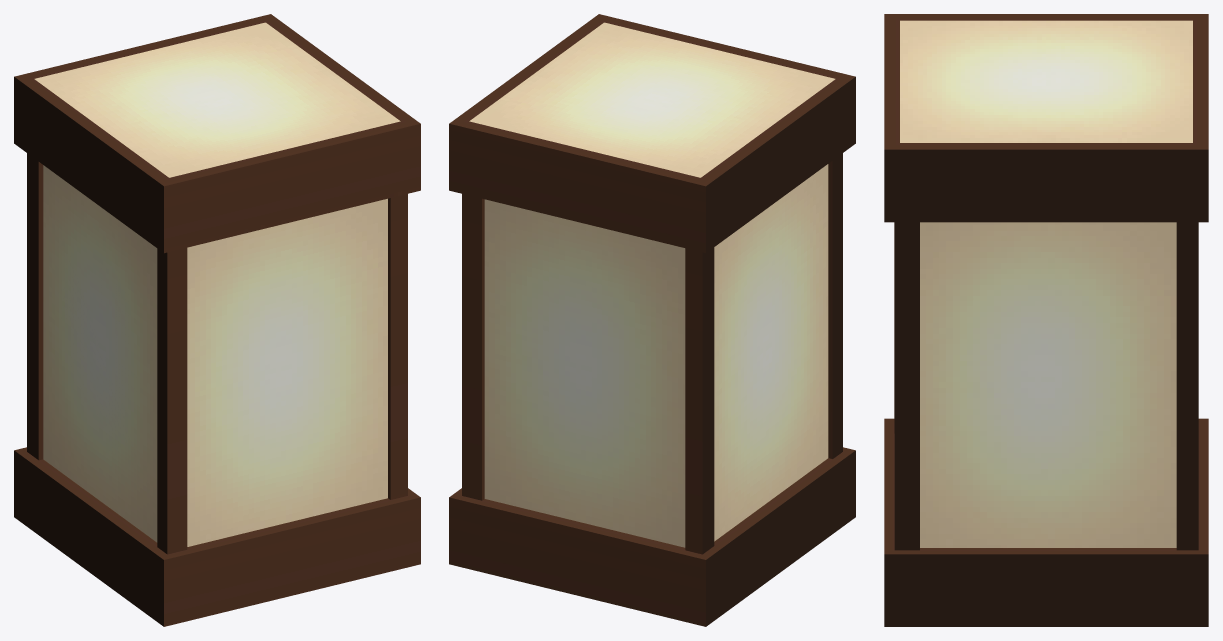
Rendered from ts_vroom_de004.FBX.
3 renders of one model, left to right at view 1: azimuth 30°, elevation 25°; view 2: azimuth 150°, elevation 25°; view 3: azimuth 270°, elevation 25°, orthographic. The views are drawn at different scales.
Parts seen in each view (by area): view 1: ts_vroom_de004; view 2: ts_vroom_de004; view 3: ts_vroom_de004.
Part boxes in pixels (box(x1,y1,x2,y2)): ts_vroom_de004: box(14, 14, 420, 626); ts_vroom_de004: box(449, 14, 855, 626); ts_vroom_de004: box(884, 14, 1208, 626).
Size of the model in its own units: 0.2329 by 0.3818 by 0.2354.
Materials: 1 (1 with a texture image).
